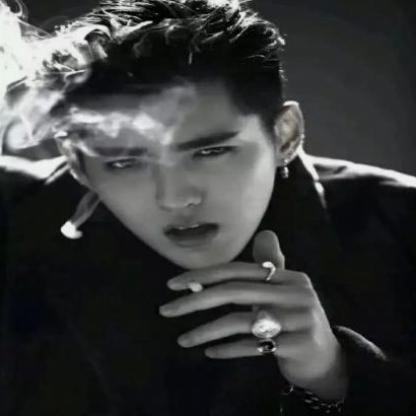person: (0, 0, 356, 415)
smoke: (0, 90, 181, 145)
